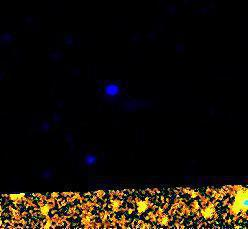star: (31, 193, 61, 223)
